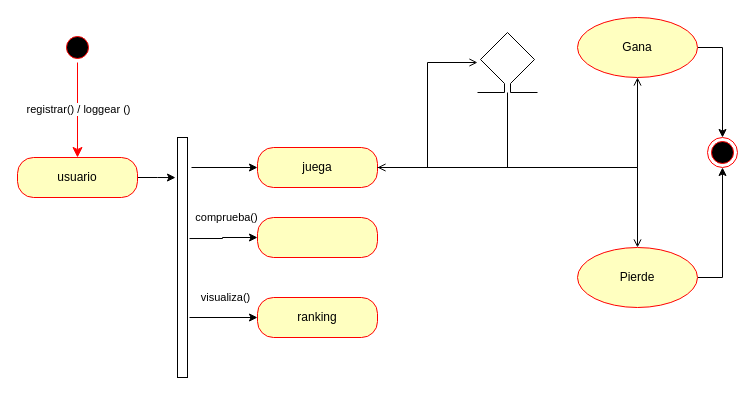
Some shapes in this 755 by 395 pixel diagram are drawn without their labels. The shapes that lost their labels are listed below. From the top down, each one's box as (x1, y1, x2, y2) in pixels, then its label:
(476, 32, 538, 92): Falla sin ser el ultimo intento
(256, 216, 378, 258): estadisticas
